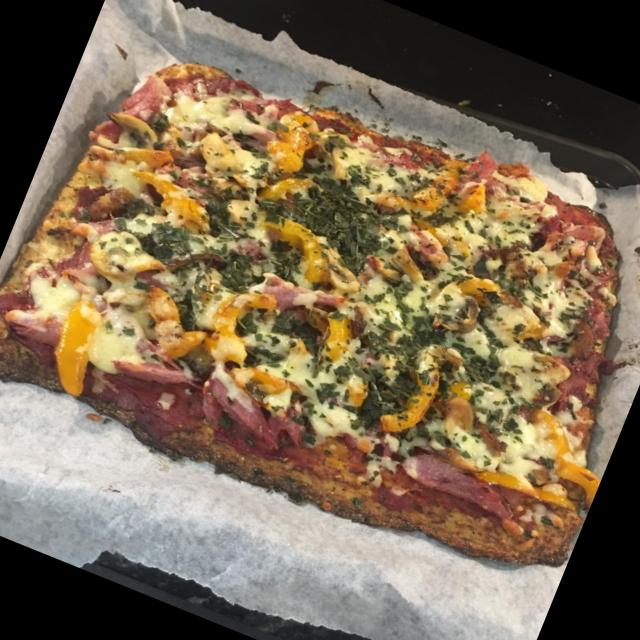mushrooms: (105, 104, 172, 154), (520, 346, 574, 398)
peppers: (194, 278, 317, 416), (377, 330, 468, 452), (509, 403, 618, 504), (36, 294, 124, 404), (426, 376, 509, 474), (124, 283, 216, 369), (248, 208, 346, 288), (473, 451, 578, 516), (125, 166, 218, 236), (256, 101, 322, 183), (94, 130, 168, 186), (308, 306, 366, 373), (412, 152, 461, 215), (450, 265, 497, 302)
pizza: (0, 64, 620, 570)
